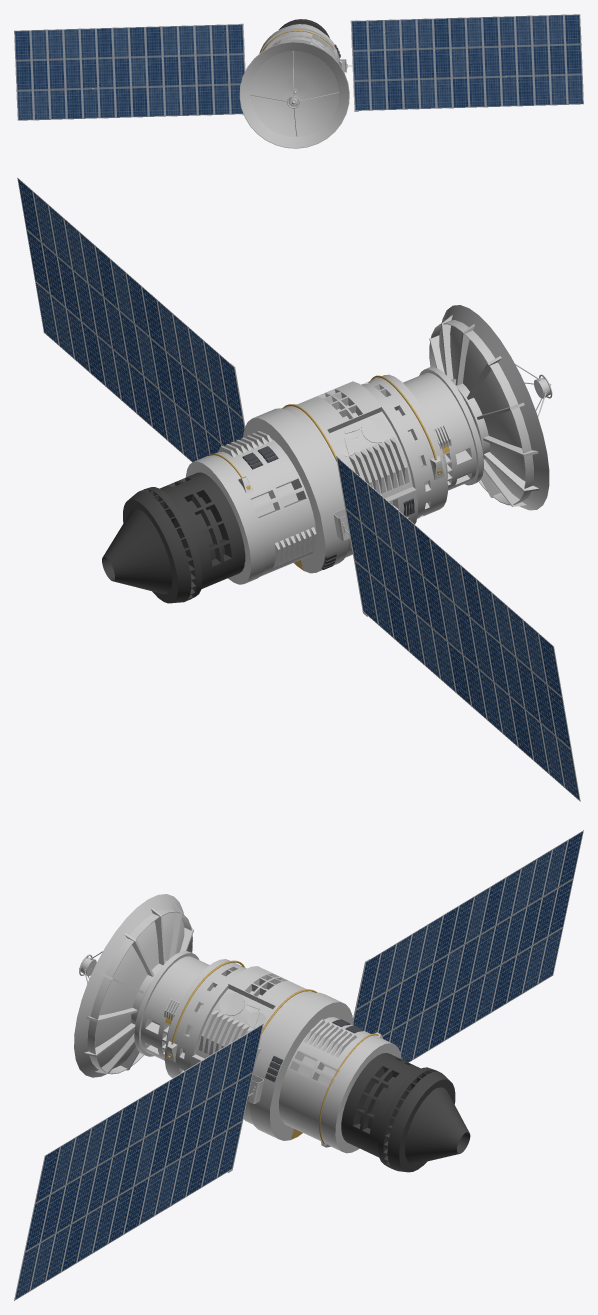
The model's file is generic.glb.
3 views of the same model, one above another, from view 1: azimuth 30°, elevation 25°; view 2: azimuth 150°, elevation 25°; view 3: azimuth 270°, elevation 25° (orthographic). The views are drawn at different scales.
Visible parts, largest first — view 1: Object_56, Object_4, Object_6; view 2: Object_56, Object_4, Object_6, Object_5; view 3: Object_56, Object_4, Object_6, Object_5.
Boxes of the visible parts, x1,y1,x2,y2 form: Object_56: (14,14,583,120); Object_4: (239,20,358,148); Object_6: (279,19,329,37); Object_56: (17,177,580,801); Object_4: (185,305,552,616); Object_6: (102,472,245,603); Object_5: (208,375,449,570); Object_56: (14,830,583,1300); Object_4: (74,894,401,1172); Object_6: (341,1053,470,1172); Object_5: (165,960,378,1143).
Size of the model in its own units: 13.08 by 3.6 by 8.46.
Materials: 5 (1 with a texture image).
